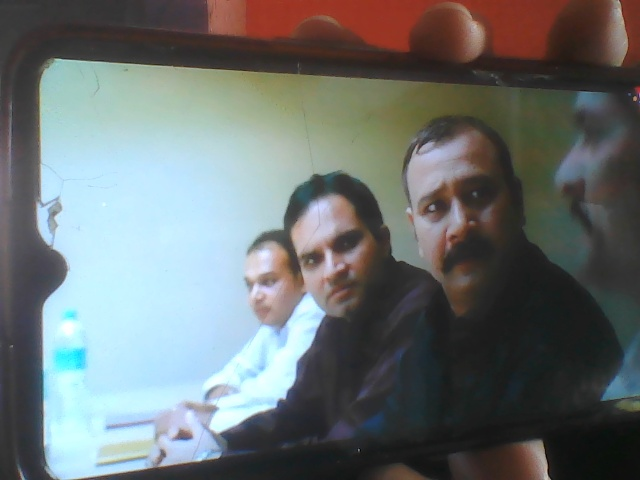fake: (400, 98, 542, 300), (280, 159, 403, 334)
